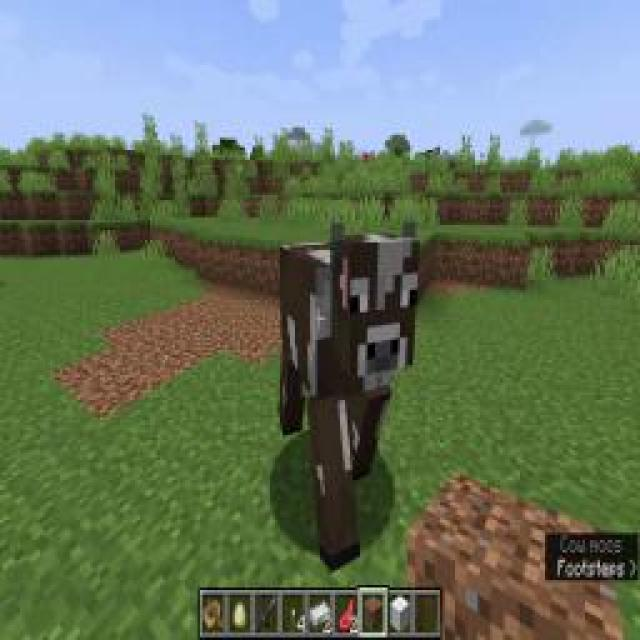Cow: (273, 217, 425, 575)
